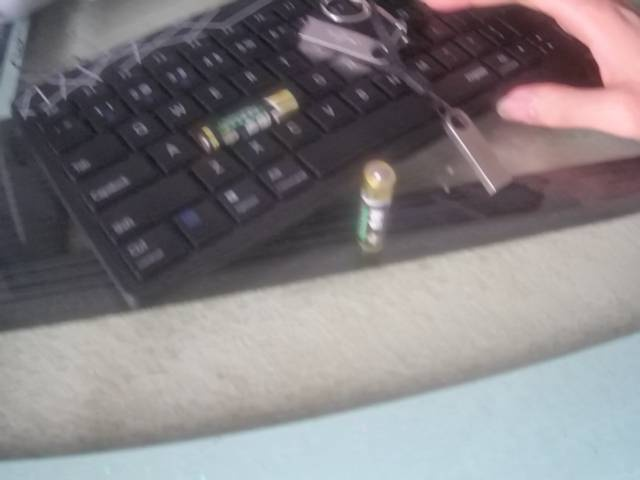U-disk: (427, 99, 515, 199), (291, 12, 407, 74)
battery: (191, 87, 301, 151), (353, 155, 396, 257)
